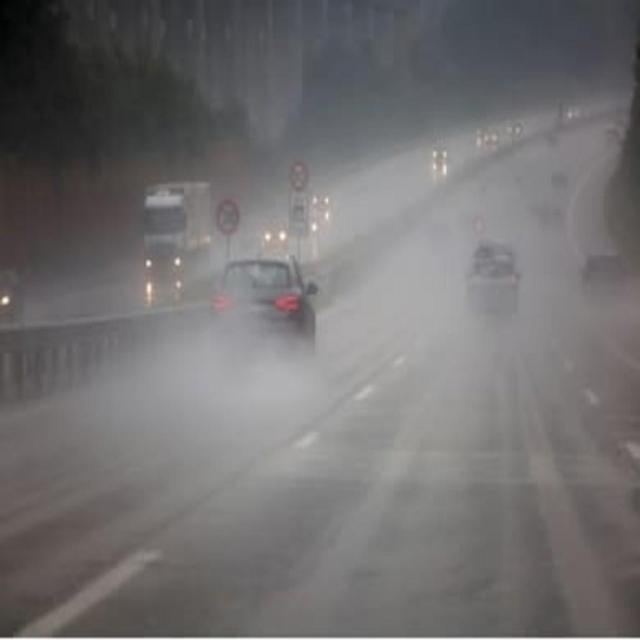Car: (208, 254, 318, 364), (467, 257, 522, 312), (578, 252, 627, 304), (0, 263, 29, 318), (263, 218, 289, 248), (432, 143, 448, 162), (484, 129, 500, 145)
Truck: (144, 181, 212, 279)
